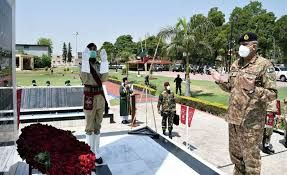uniform: (223, 51, 271, 171), (71, 54, 106, 147), (156, 87, 177, 136)
